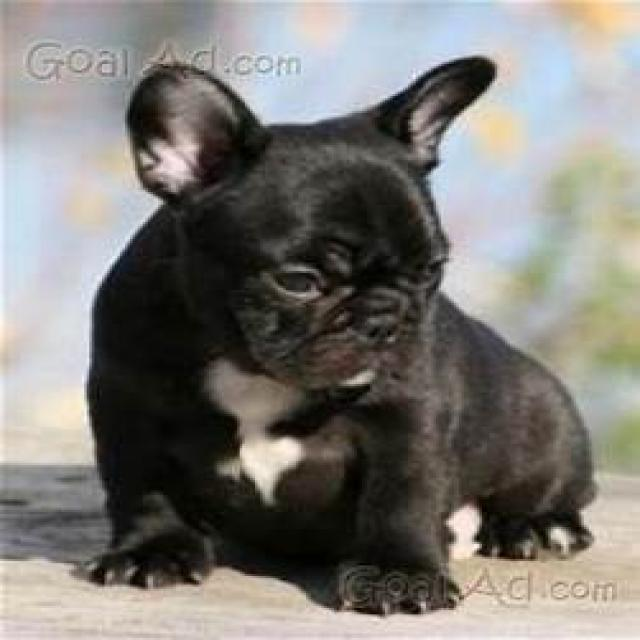dog: (88, 58, 595, 611)
